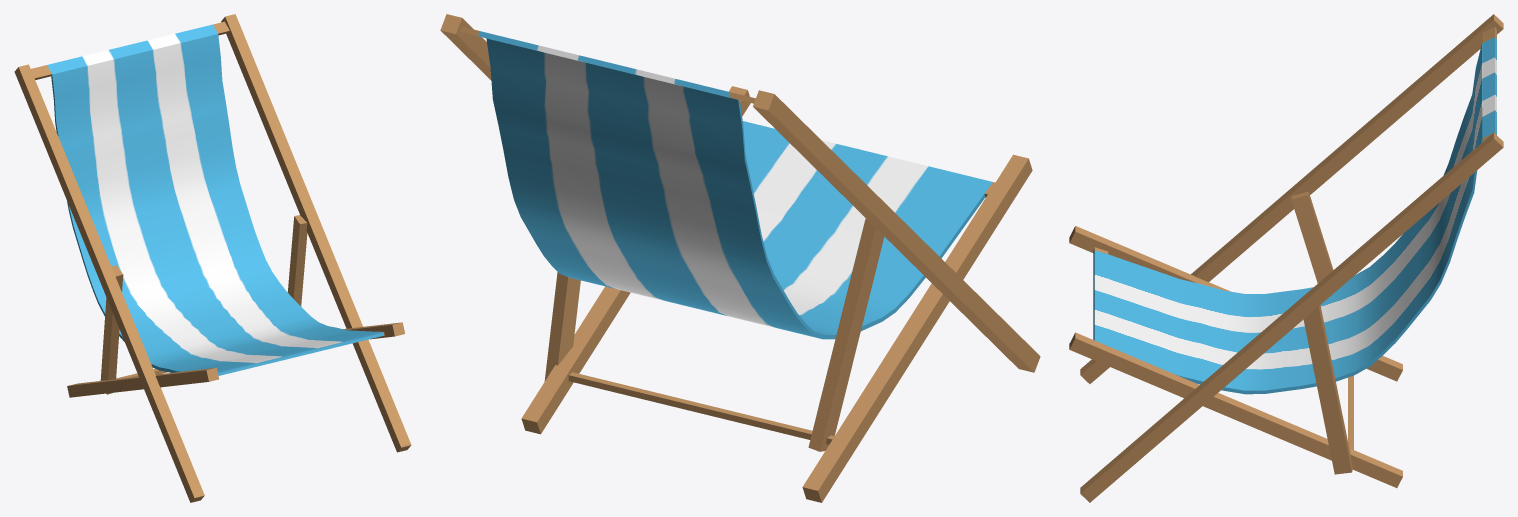
The model's file is DeckChair.fbx.
The picture shows the model from 3 angles, left to right: view 1: azimuth 30°, elevation 25°; view 2: azimuth 150°, elevation 25°; view 3: azimuth 270°, elevation 25°; orthographic projection. The views are drawn at different scales.
Parts seen in each view (by area): view 1: pCube14; view 2: pCube14; view 3: pCube14.
Part boxes in pixels (x1=…): pCube14: x1=14, y1=14, x2=411, y2=502; pCube14: x1=440, y1=14, x2=1040, y2=502; pCube14: x1=1069, y1=14, x2=1503, y2=502.
Bounding box in the file's own units: 8.85 × 12.09 × 13.05.
Materials: 1 (1 with a texture image).
